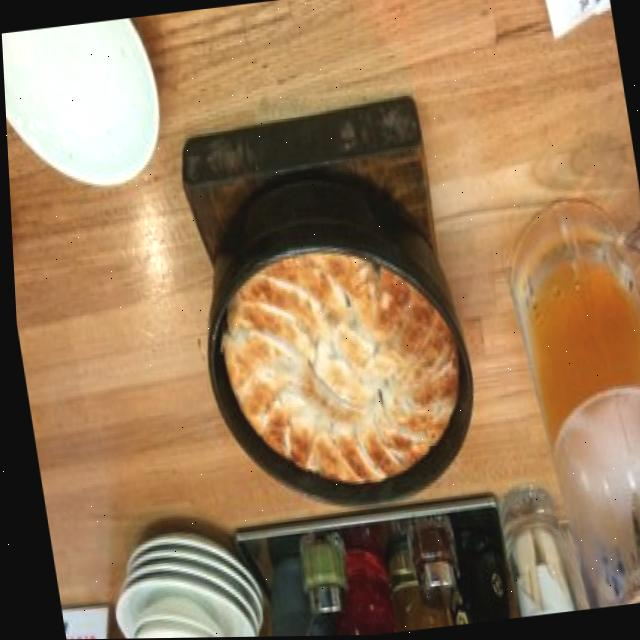带馅早点: (176, 128, 498, 533)
